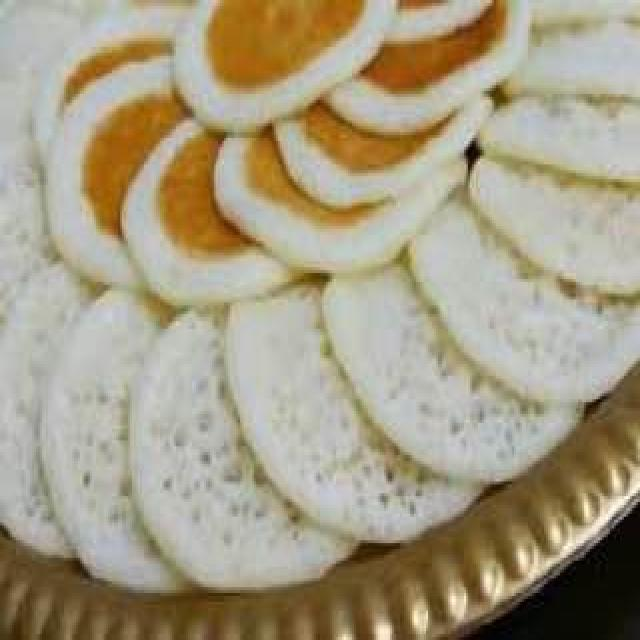ataif: (0, 0, 640, 596)
